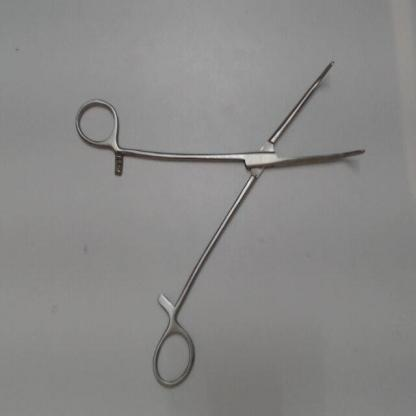Lahey Forceps: (69, 47, 370, 393)
